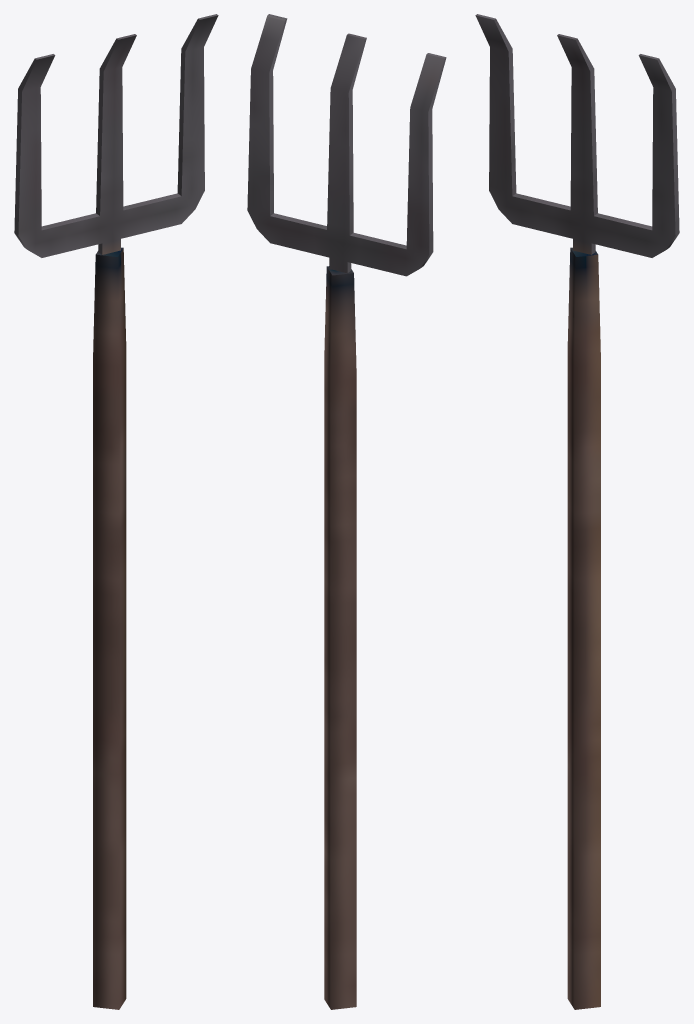
File: objects_un_t03farmtools02.gltf
3 renders of one model, left to right at view 1: azimuth 30°, elevation 25°; view 2: azimuth 150°, elevation 25°; view 3: azimuth 330°, elevation 25°, orthographic. The views are drawn at different scales.
Parts seen in each view (by area): view 1: objects_un_t03farmtools02_mesh_shape:objects_un_t03farmtools; view 2: objects_un_t03farmtools02_mesh_shape:objects_un_t03farmtools; view 3: objects_un_t03farmtools02_mesh_shape:objects_un_t03farmtools.
Boxes of the visible parts, bbox=[...] form: objects_un_t03farmtools02_mesh_shape:objects_un_t03farmtools: bbox=[14, 14, 218, 1009]; objects_un_t03farmtools02_mesh_shape:objects_un_t03farmtools: bbox=[247, 14, 446, 1009]; objects_un_t03farmtools02_mesh_shape:objects_un_t03farmtools: bbox=[475, 14, 679, 1009].
Size of what is drawn, in the model's own units: 0.3376 by 1.69 by 0.0863.
Materials: 1 (1 with a texture image).
